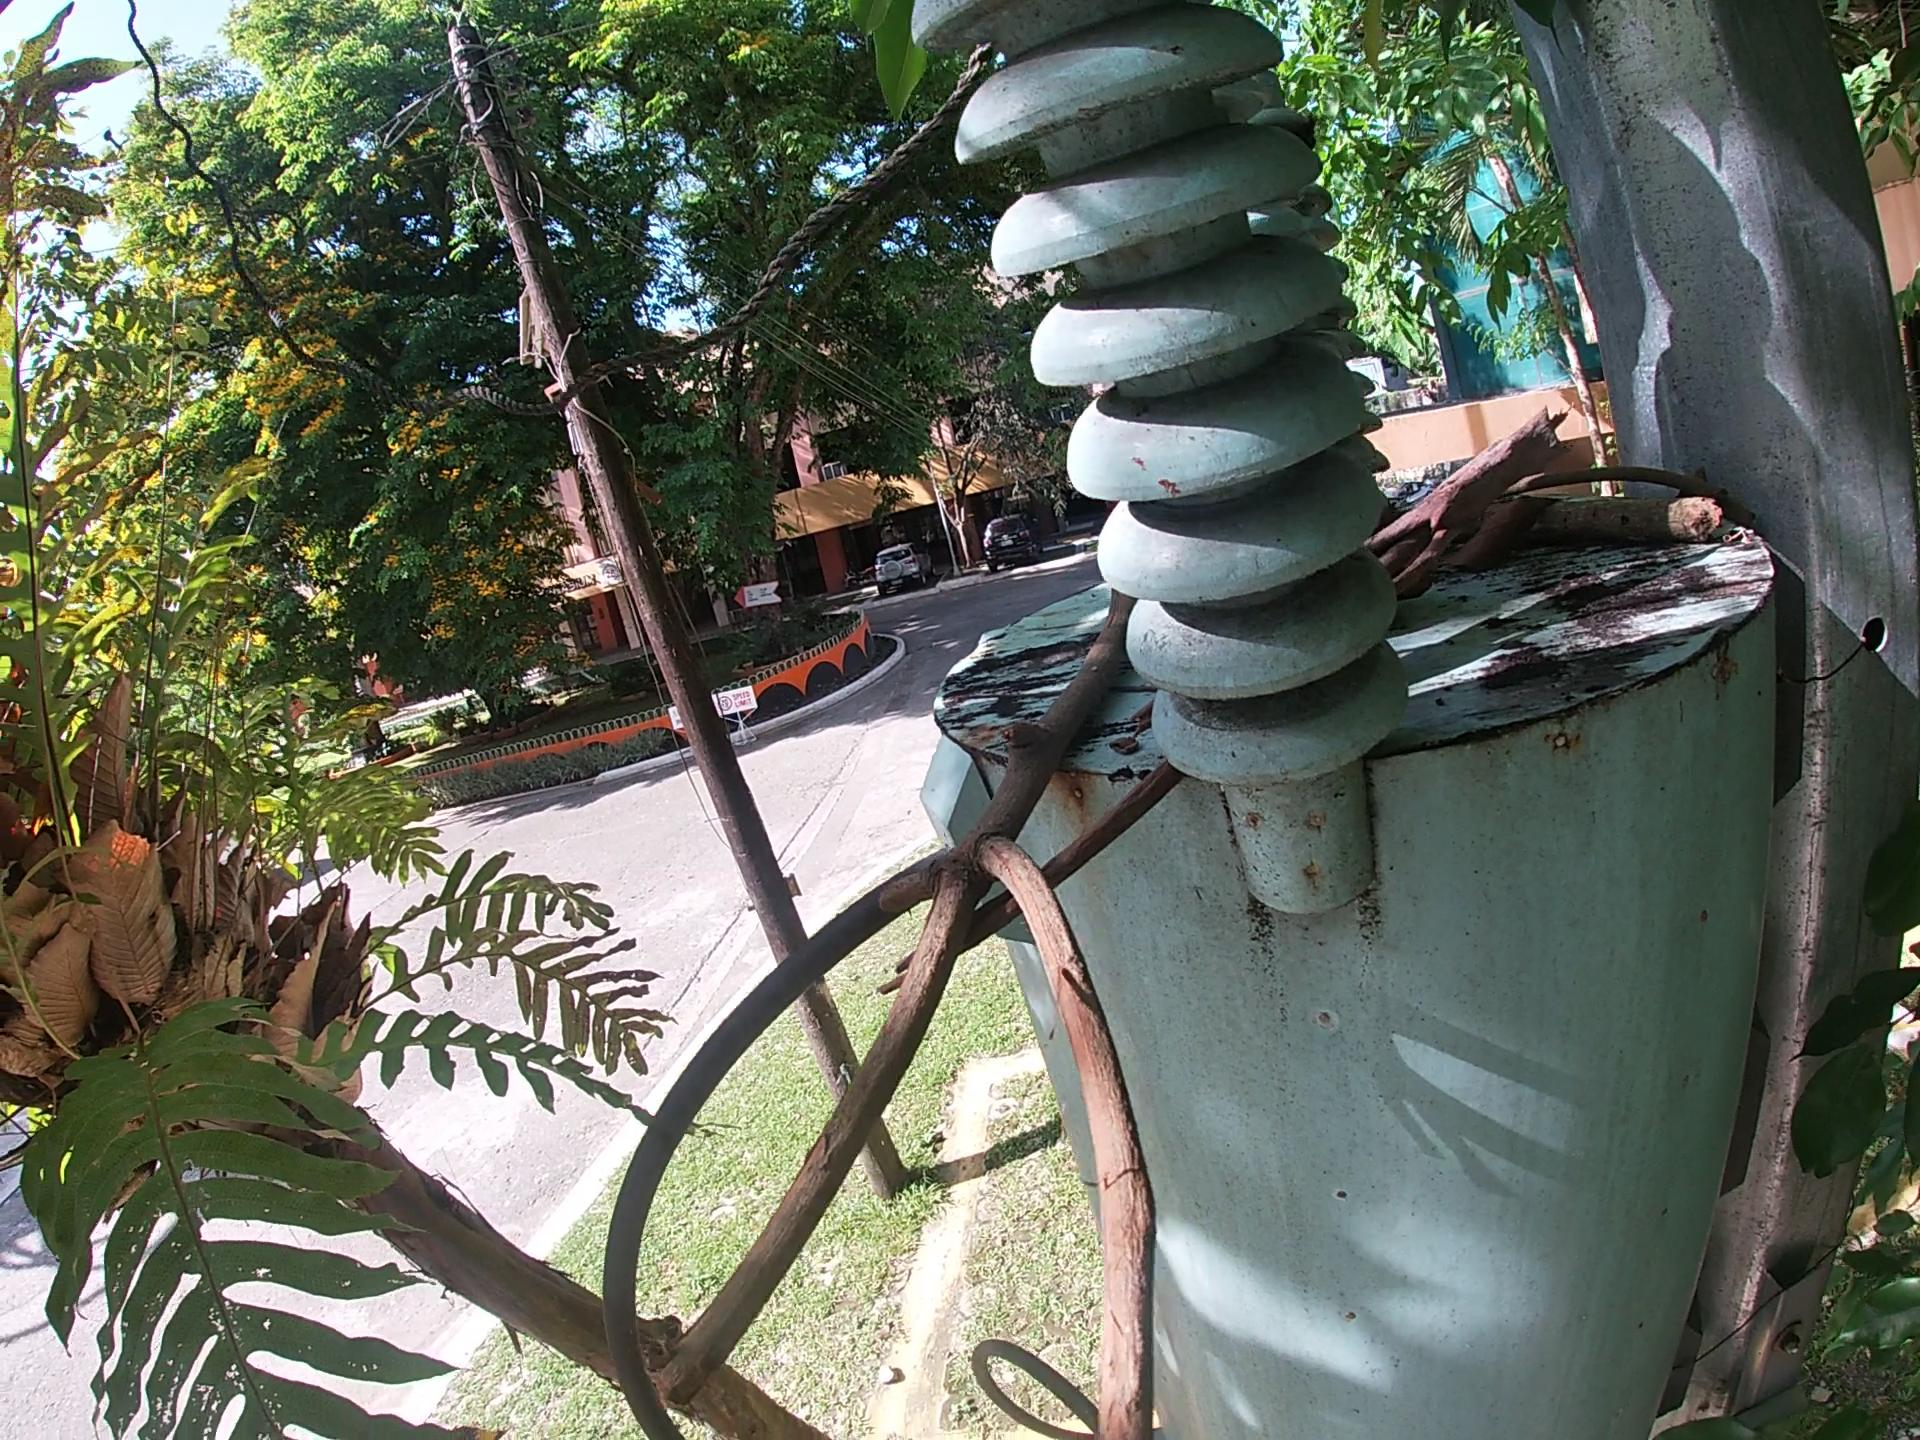leaf: (1432, 489, 1565, 585)
tree branch: (639, 575, 1172, 1438), (872, 755, 1188, 1004), (1355, 398, 1580, 602), (1518, 487, 1730, 560), (1510, 464, 1758, 507)
